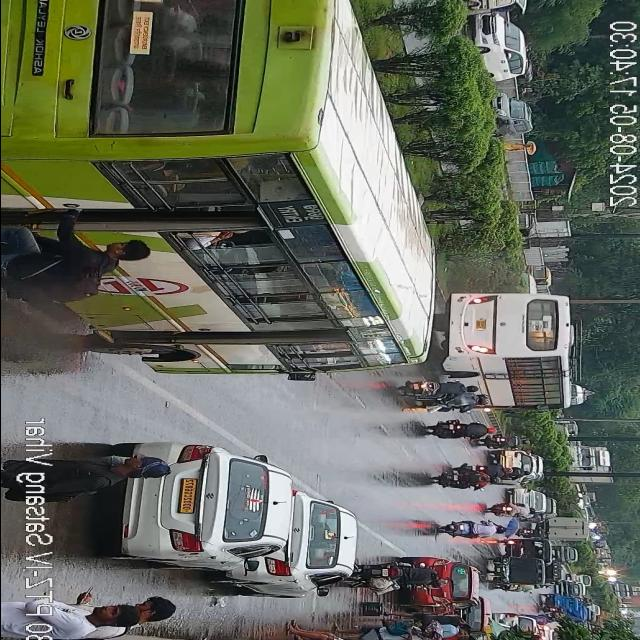2-wheelers: (362, 559, 444, 596), (406, 376, 480, 404), (431, 464, 498, 491), (425, 418, 493, 442), (438, 516, 502, 538), (481, 431, 524, 451), (485, 501, 529, 518)
auto: (490, 538, 548, 588), (497, 534, 550, 559), (506, 208, 540, 238), (556, 579, 580, 599)
bus: (60, 0, 456, 376), (552, 441, 610, 484), (540, 517, 594, 542)
car: (110, 447, 284, 575), (248, 500, 358, 590), (466, 11, 528, 81), (412, 556, 477, 619), (486, 92, 532, 134), (489, 608, 537, 639), (498, 448, 534, 479), (511, 488, 547, 510)
pedestrian: (0, 442, 179, 498), (0, 586, 182, 640), (0, 232, 162, 292), (384, 615, 472, 633), (278, 624, 373, 640)
truck: (435, 284, 575, 414)
